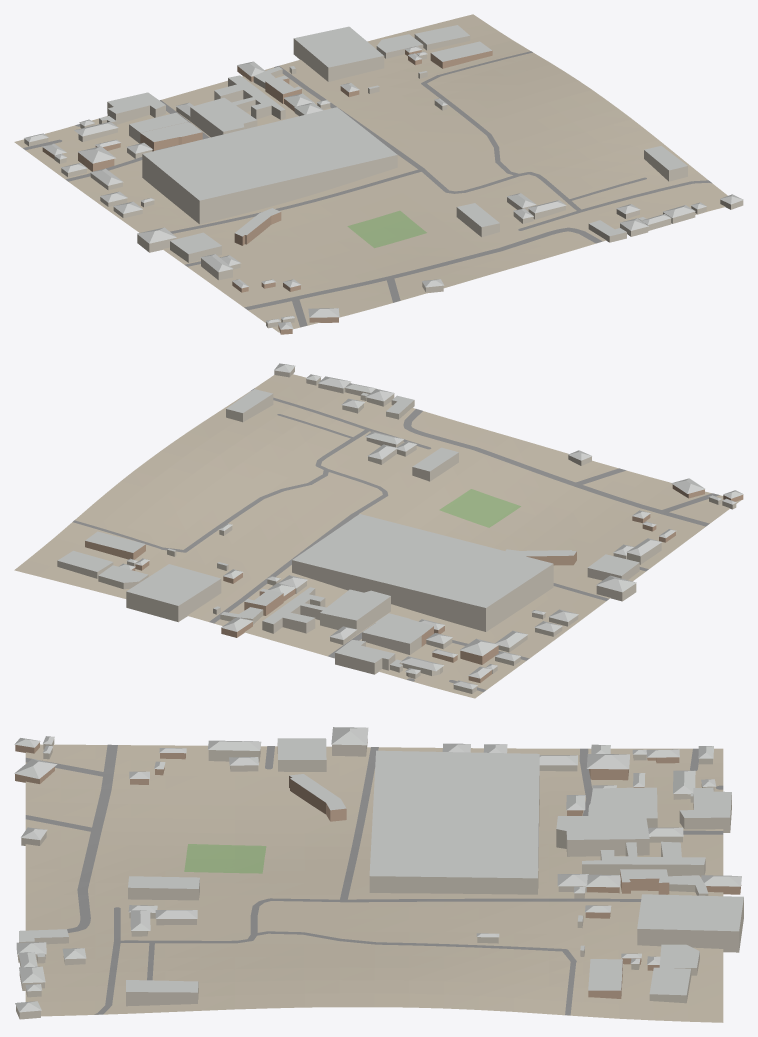
Rendered from bolak_-15_1.glb.
3 views of the same model, one above another, from view 1: azimuth 30°, elevation 25°; view 2: azimuth 150°, elevation 25°; view 3: azimuth 270°, elevation 25° (orthographic). The views are drawn at different scales.
Parts seen in each view (by area): view 1: Yer_Tuproq-col, Tom_Shifer, Devor_Suvoq-col, Yol_Mahalla-col, Devor_Gisht-col, Yer_Maysa; view 2: Yer_Tuproq-col, Tom_Shifer, Devor_Suvoq-col, Yol_Mahalla-col, Devor_Gisht-col, Yer_Maysa; view 3: Yer_Tuproq-col, Tom_Shifer, Devor_Suvoq-col, Yol_Mahalla-col, Devor_Gisht-col, Yer_Maysa.
Part boxes in pixels (x1,y1,x2,y2): Yer_Tuproq-col: (14,14,727,332); Tom_Shifer: (24,25,743,329); Devor_Suvoq-col: (24,34,743,328); Yol_Mahalla-col: (23,51,711,327); Devor_Gisht-col: (42,50,492,334); Yer_Maysa: (347,210,426,248); Yer_Tuproq-col: (14,374,740,698); Tom_Shifer: (58,363,743,689); Devor_Suvoq-col: (57,367,736,693); Yol_Mahalla-col: (72,388,719,691); Devor_Gisht-col: (85,484,743,682); Yer_Maysa: (439,489,520,527); Yer_Tuproq-col: (25,744,723,1022); Tom_Shifer: (14,727,743,1012); Devor_Suvoq-col: (16,739,743,1019); Yol_Mahalla-col: (25,744,723,1015); Devor_Gisht-col: (15,742,741,998); Yer_Maysa: (184,844,266,873).
Size of what is drawn, in the model's own units: 414 by 28 by 419.
